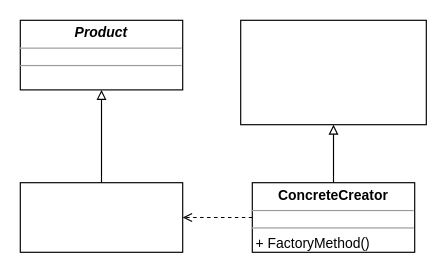
Some shapes in this 447 by 273 pixel diagram are drawn without their labels. Here are the shapes that lost their labels. From the top down, the centre of each, then its label:
At point 333,72: "Creator + FactoryMethod() + AnOperation()".
At point 101,217: "ConcreteProduct".
